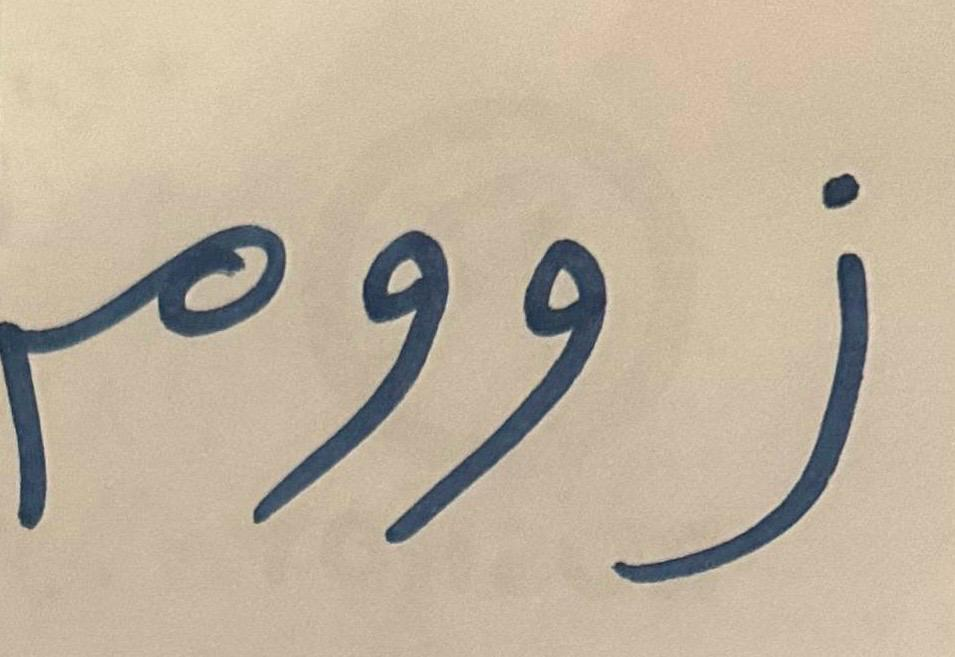hamza: (636, 144, 919, 602)
noon: (1, 196, 287, 468)
yeh: (461, 226, 631, 530), (291, 208, 456, 453)
